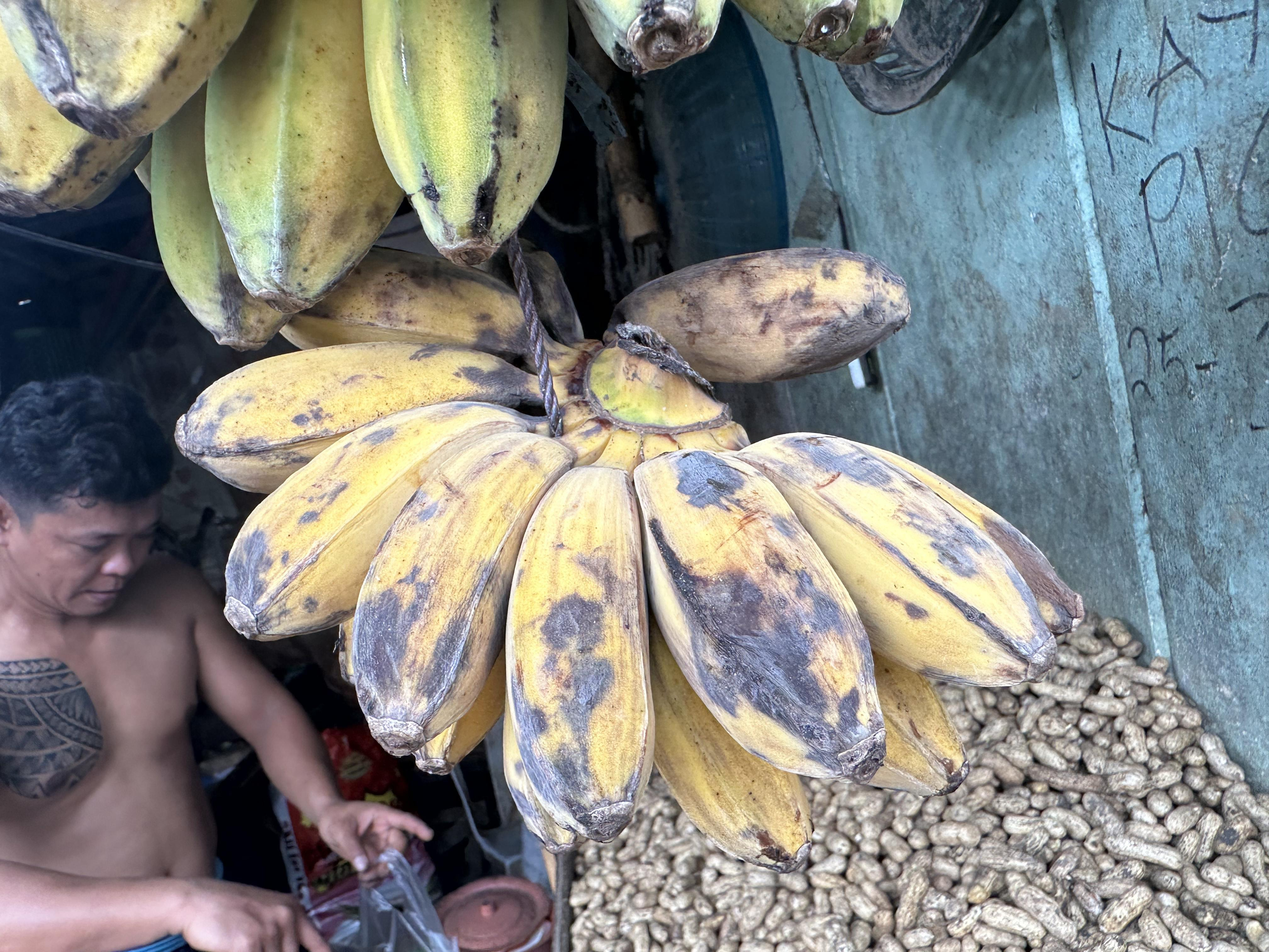ripe: (175, 244, 1086, 877)
underripe: (0, 0, 574, 351)
